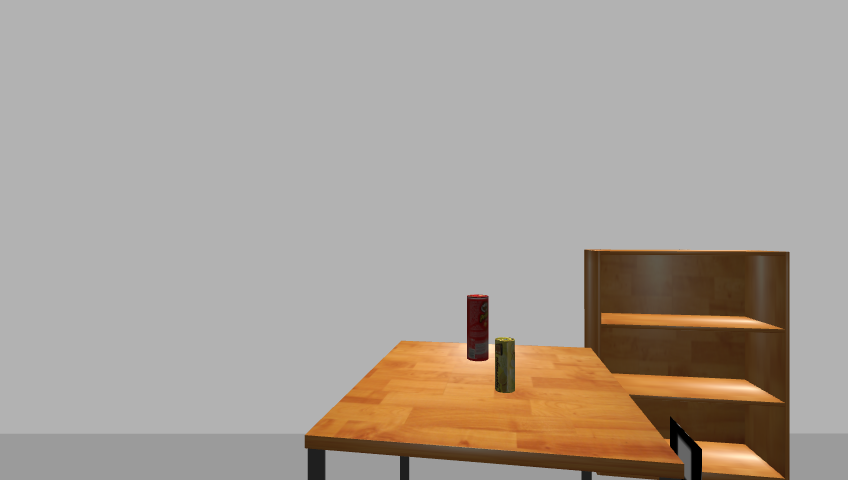aruco marker: (665, 417, 706, 480)
biscuits pack: (494, 337, 516, 395)
bookshelf: (579, 248, 796, 479)
dinner table: (298, 340, 686, 480)
pringles can: (463, 293, 491, 363)
